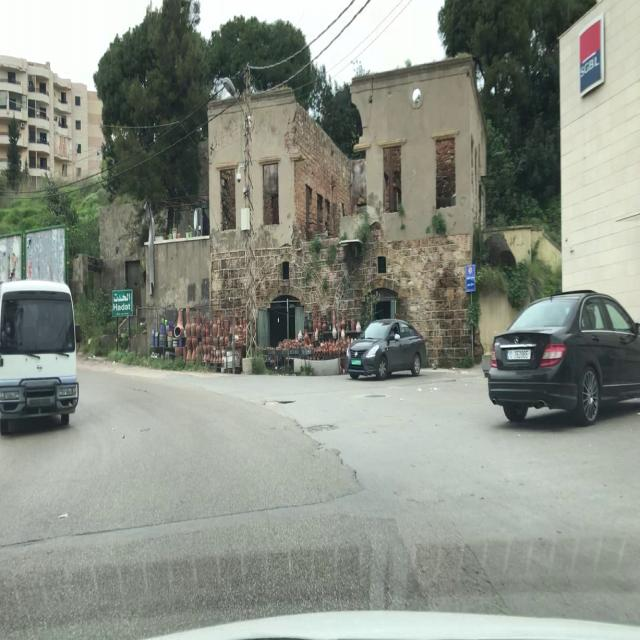Pothole: (304, 422, 339, 434), (264, 399, 298, 408)
